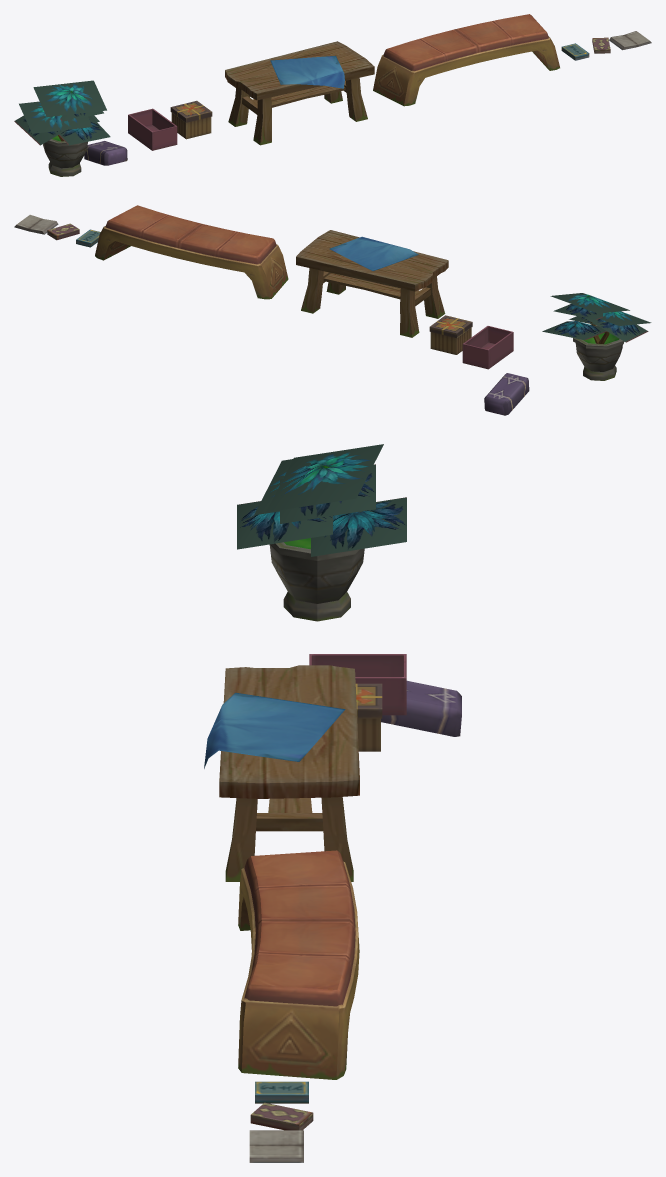
File: ZC_zawu03.FBX
The picture shows the model from 3 angles, top to bottom: view 1: azimuth 30°, elevation 25°; view 2: azimuth 150°, elevation 25°; view 3: azimuth 270°, elevation 25°; orthographic projection. The views are drawn at different scales.
Parts seen in each view (by area): view 1: ZC_zawu03_003, ZC_zawu03_001, ZC_zawu03_005, ZC_zawu03_002, ZC_zawu03_007, ZC_zawu03_004, ZC_zawu03_008, ZC_zawu03_006, ZC_zawu03_011, ZC_zawu03_009, ZC_zawu03_010; view 2: ZC_zawu03_003, ZC_zawu03_001, ZC_zawu03_005, ZC_zawu03_004, ZC_zawu03_002, ZC_zawu03_007, ZC_zawu03_008, ZC_zawu03_006, ZC_zawu03_011, ZC_zawu03_010; view 3: ZC_zawu03_003, ZC_zawu03_001, ZC_zawu03_005, ZC_zawu03_002, ZC_zawu03_004, ZC_zawu03_007, ZC_zawu03_006, ZC_zawu03_011, ZC_zawu03_008, ZC_zawu03_010, ZC_zawu03_009.
Part boxes in pixels (x1,y1,x2,y2): ZC_zawu03_003: (373,14,559,106); ZC_zawu03_001: (225,41,374,145); ZC_zawu03_005: (14,80,110,145); ZC_zawu03_002: (270,55,344,88); ZC_zawu03_007: (128,108,177,150); ZC_zawu03_004: (43,135,87,176); ZC_zawu03_008: (170,100,212,139); ZC_zawu03_006: (84,141,127,165); ZC_zawu03_011: (609,31,651,50); ZC_zawu03_009: (561,43,589,60); ZC_zawu03_010: (592,37,610,53); ZC_zawu03_003: (95,205,288,299); ZC_zawu03_001: (296,230,448,337); ZC_zawu03_005: (542,293,651,342); ZC_zawu03_004: (573,321,624,380); ZC_zawu03_002: (329,236,418,271); ZC_zawu03_007: (462,326,513,369); ZC_zawu03_008: (429,315,472,354); ZC_zawu03_006: (484,373,529,415); ZC_zawu03_011: (14,214,58,234); ZC_zawu03_010: (47,223,79,240); ZC_zawu03_003: (238,850,359,1079); ZC_zawu03_001: (219,665,359,881); ZC_zawu03_005: (237,444,406,556); ZC_zawu03_002: (204,692,345,768); ZC_zawu03_004: (269,538,364,621); ZC_zawu03_007: (309,654,406,715); ZC_zawu03_006: (381,680,461,736); ZC_zawu03_011: (249,1130,303,1162); ZC_zawu03_008: (355,683,382,751); ZC_zawu03_010: (250,1102,313,1130); ZC_zawu03_009: (255,1081,308,1103).
Size of the model in its own units: 2433 by 390 by 445.
Materials: 2 (2 with a texture image).
